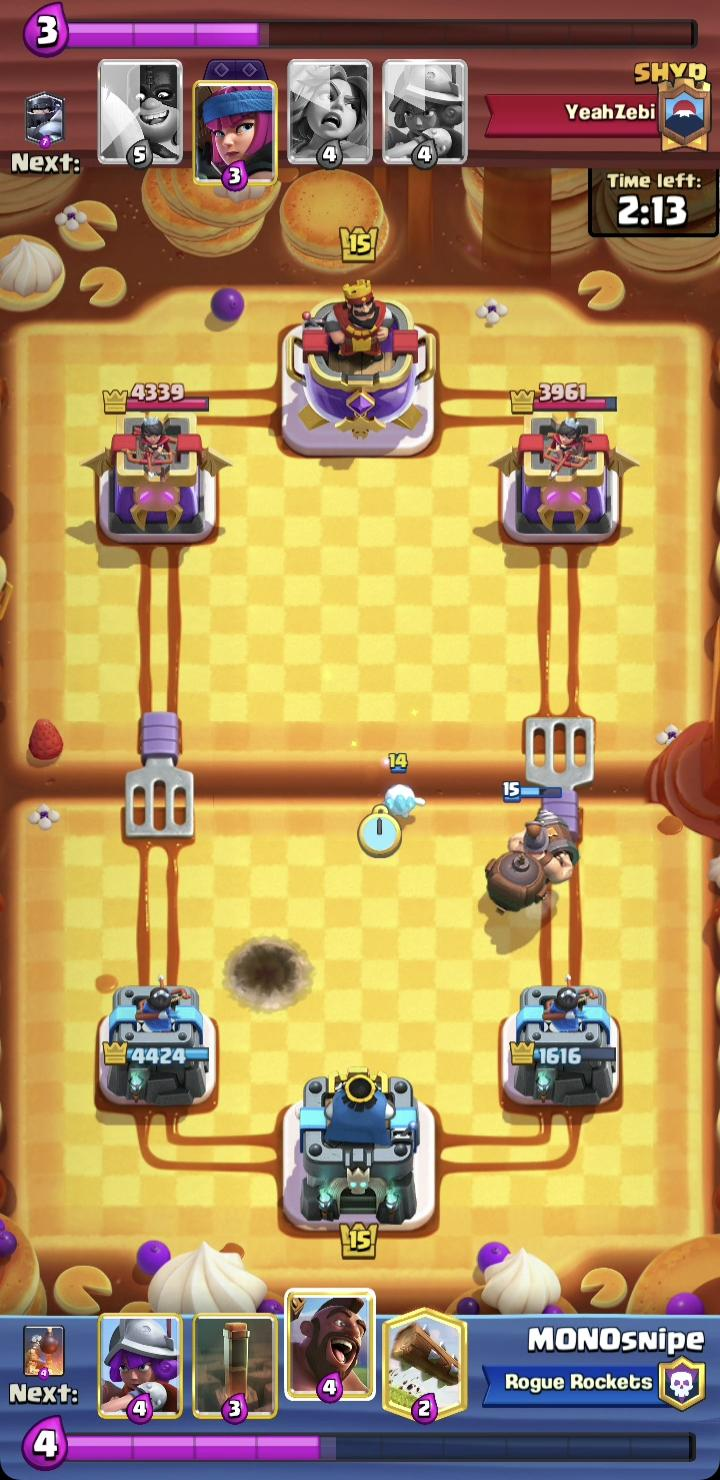ally_ice_spirit: (374, 752, 426, 825)
ally_mightyminer: (484, 783, 578, 916)
